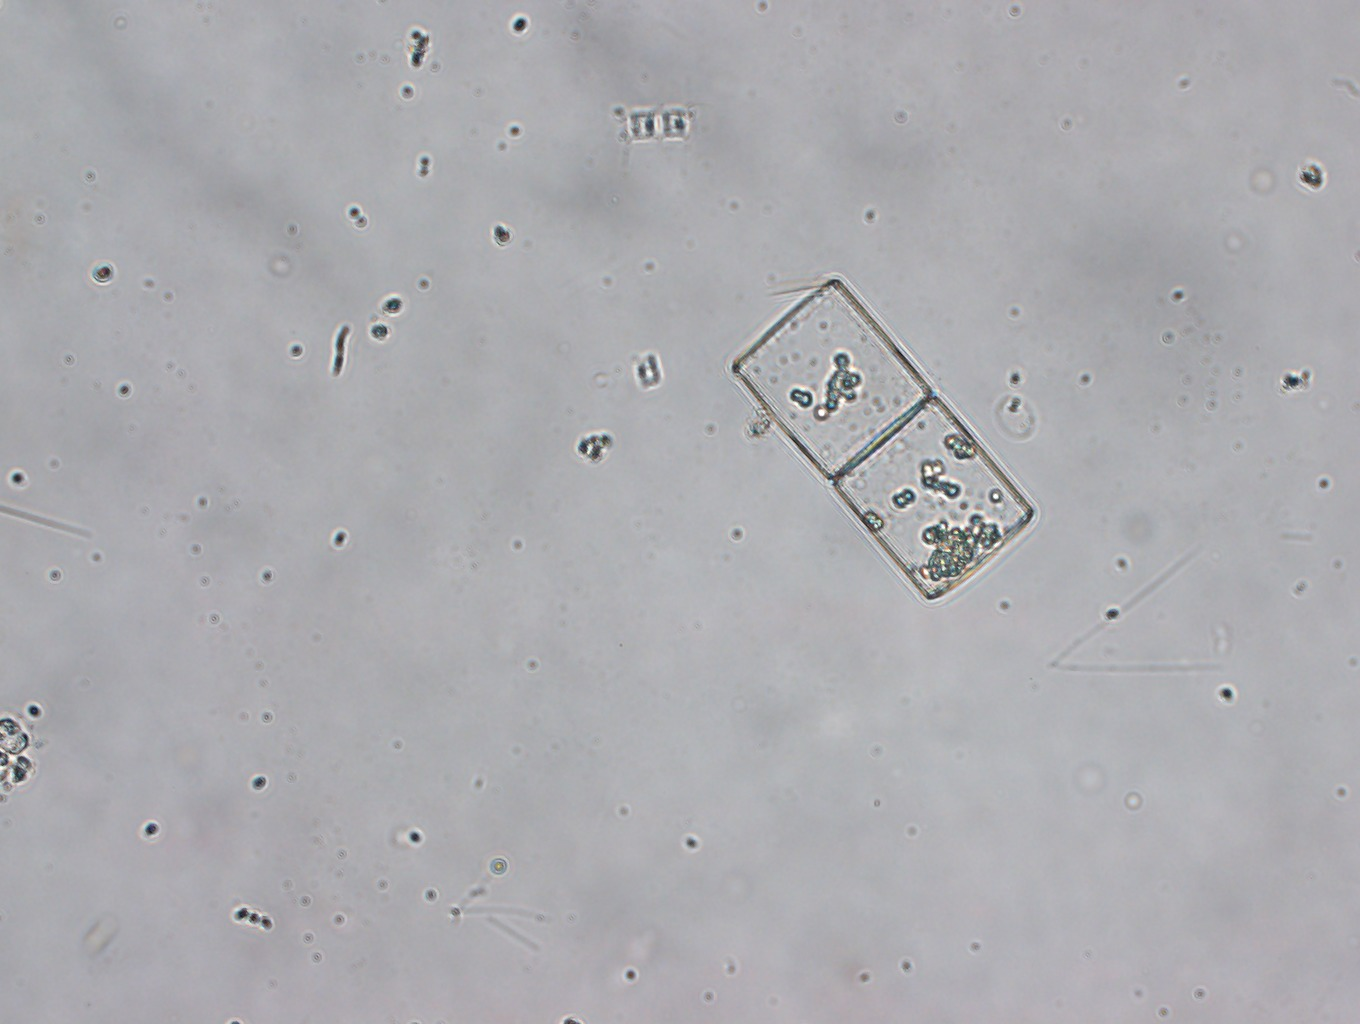guinardia flaccida: (728, 274, 1034, 601)
